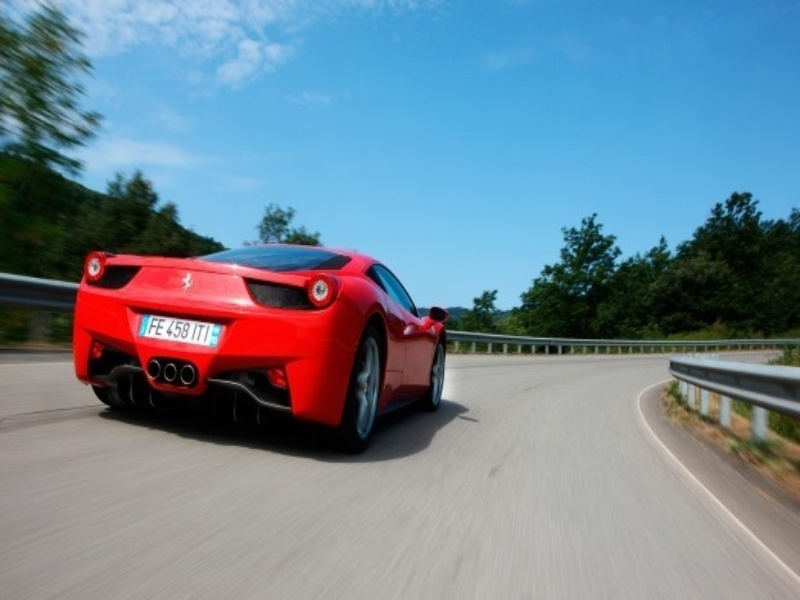normalcar: (51, 181, 472, 445)
